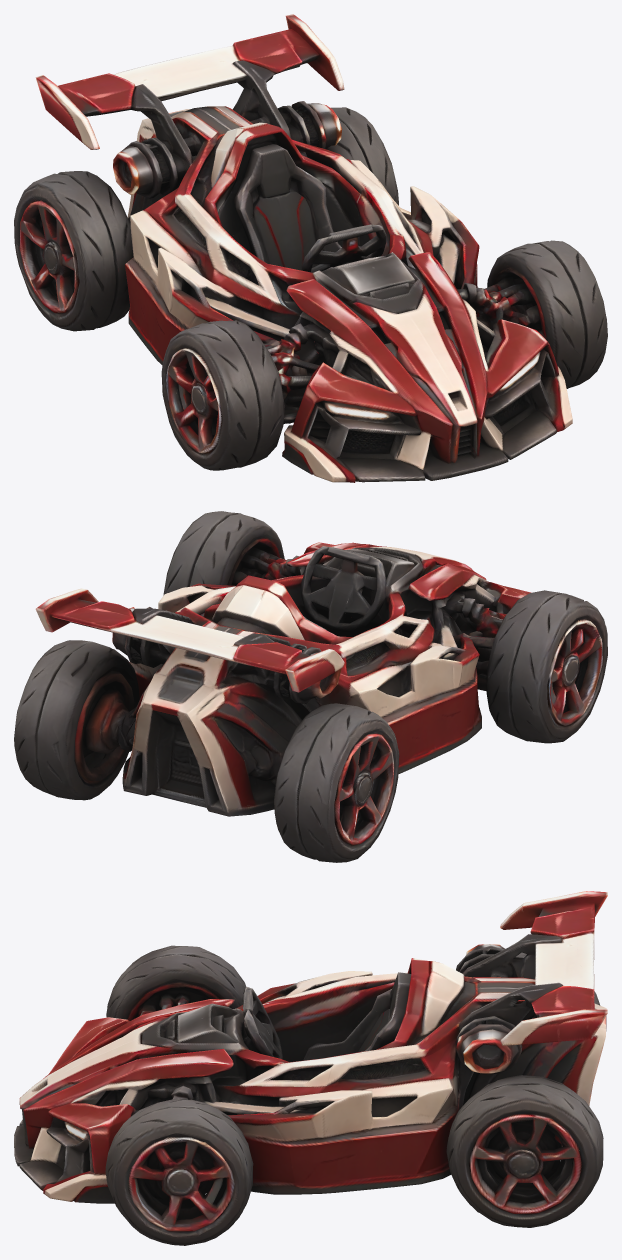
Rendered from 04-crimson-kestrel-shaded.glb.
3 views of the same model, one above another, from view 1: azimuth 30°, elevation 25°; view 2: azimuth 150°, elevation 25°; view 3: azimuth 270°, elevation 25° (orthographic). The views are drawn at different scales.
Parts seen in each view (by area): view 1: model; view 2: model; view 3: model.
Boxes of the visible parts, x1,y1,x2,y2 form: model: (14, 14, 607, 482); model: (14, 511, 607, 862); model: (14, 891, 607, 1245).
Bounding box in the file's own units: 1.37 × 0.7432 × 1.9.
Materials: 1 (1 with a texture image).
